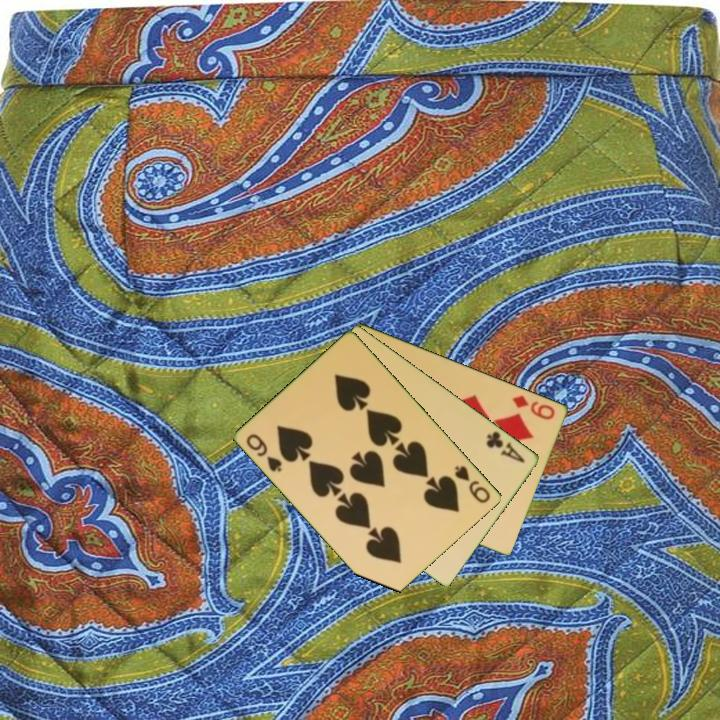9d: (509, 391, 558, 423)
9s: (243, 430, 286, 475), (451, 462, 494, 506)
Ac: (483, 427, 528, 466)
